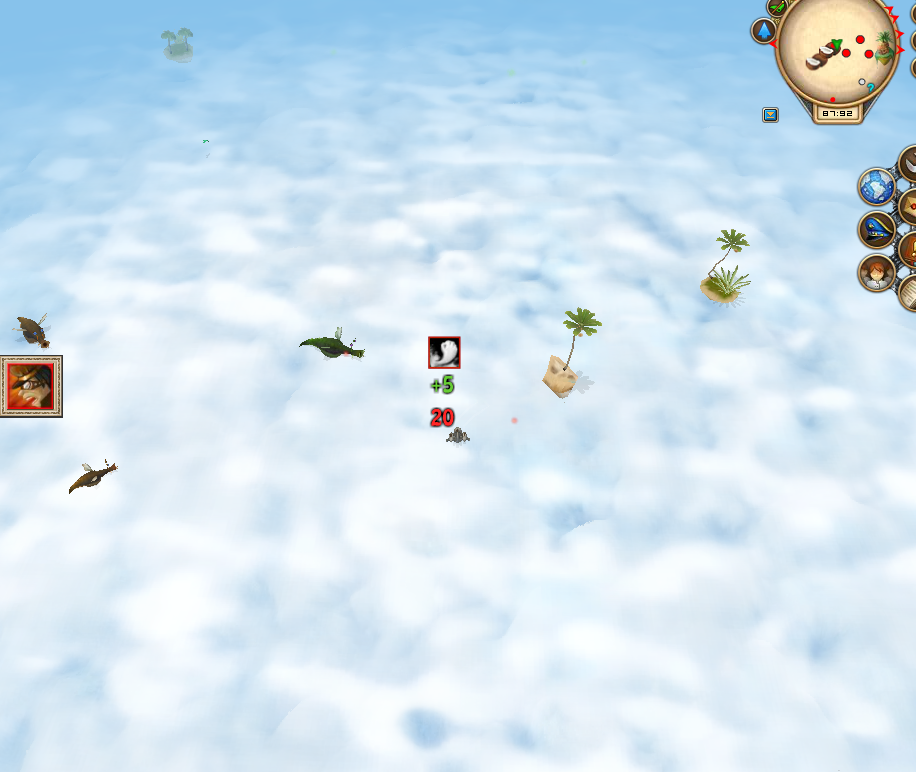palm: (536, 305, 601, 401), (691, 225, 758, 312)
